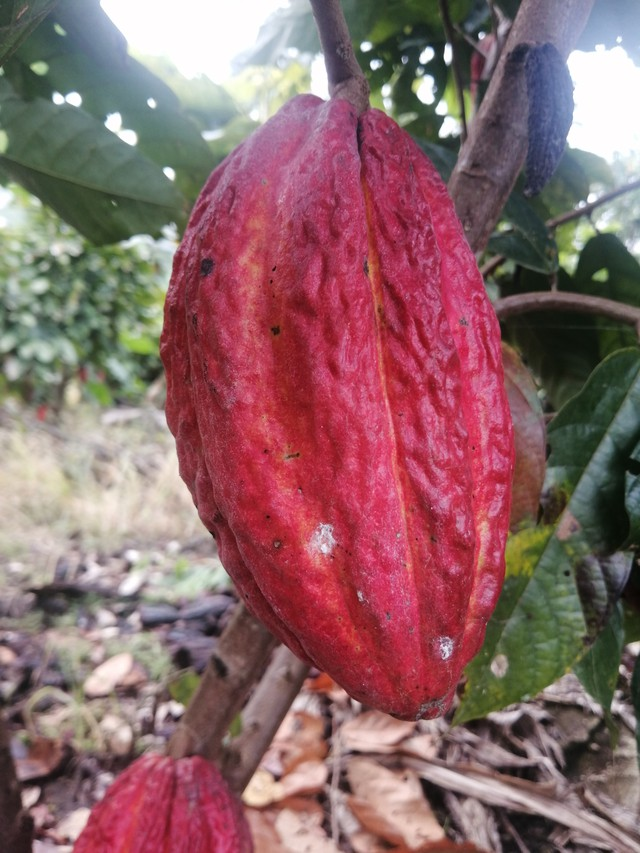Health: (147, 86, 527, 732)
